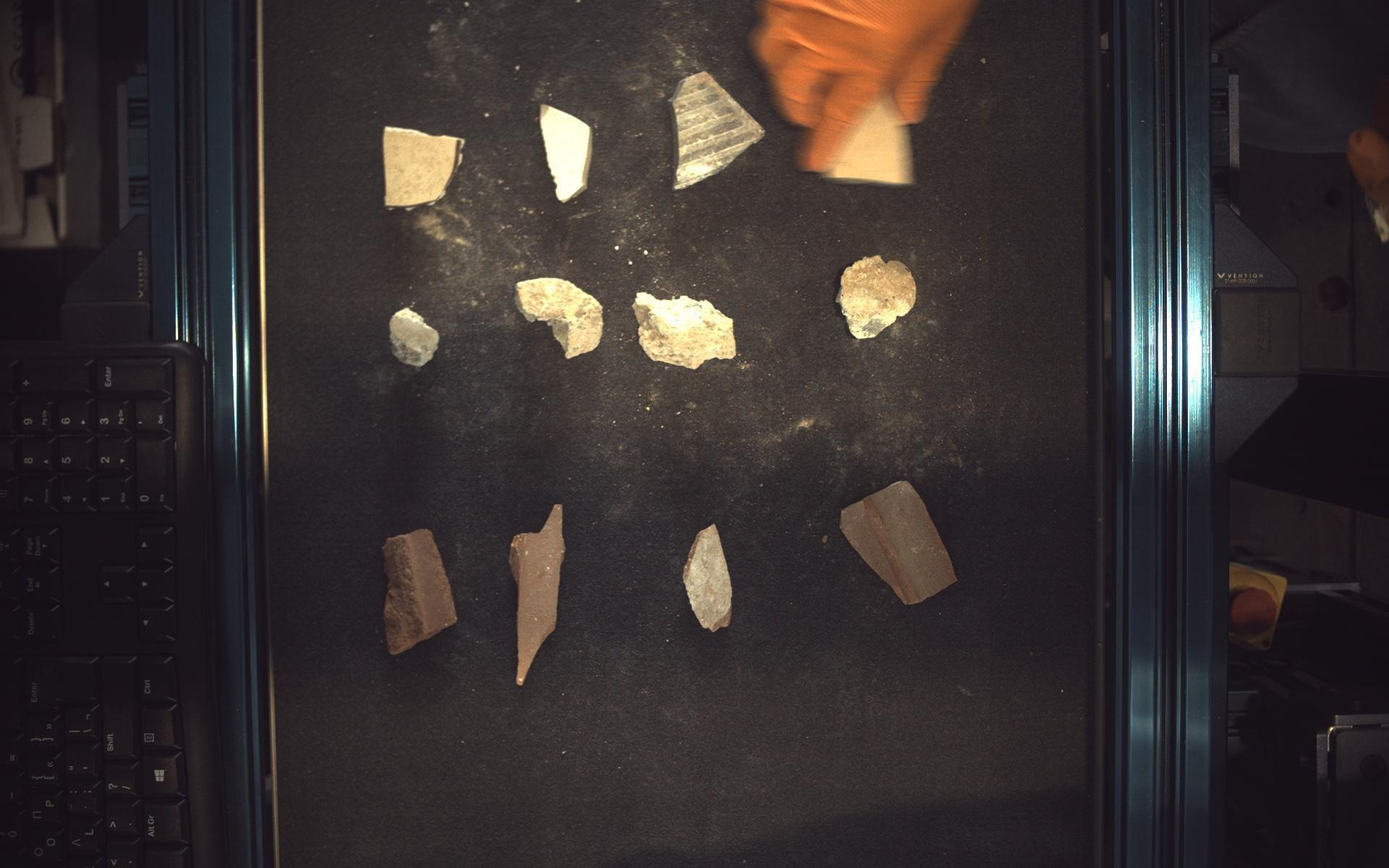brick: (842, 481, 959, 605), (509, 505, 566, 686), (383, 529, 456, 656), (684, 524, 733, 633)
concrete: (633, 292, 737, 369), (517, 277, 604, 358), (838, 255, 918, 339), (389, 307, 439, 367)
tile: (671, 70, 766, 189), (384, 126, 464, 207), (540, 103, 592, 201)
